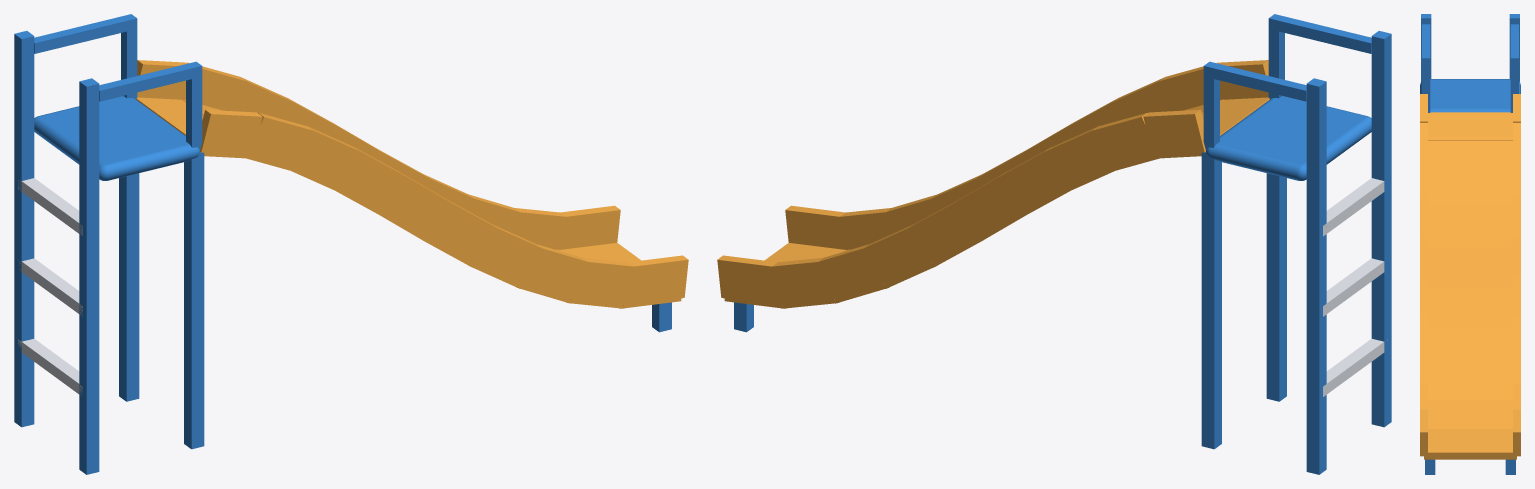
The model's file is slide.glb.
3 renders of one model, left to right at view 1: azimuth 30°, elevation 25°; view 2: azimuth 150°, elevation 25°; view 3: azimuth 270°, elevation 25°, orthographic. The views are drawn at different scales.
Bounding box in the file's own units: 2.35 × 1.45 × 0.5.
